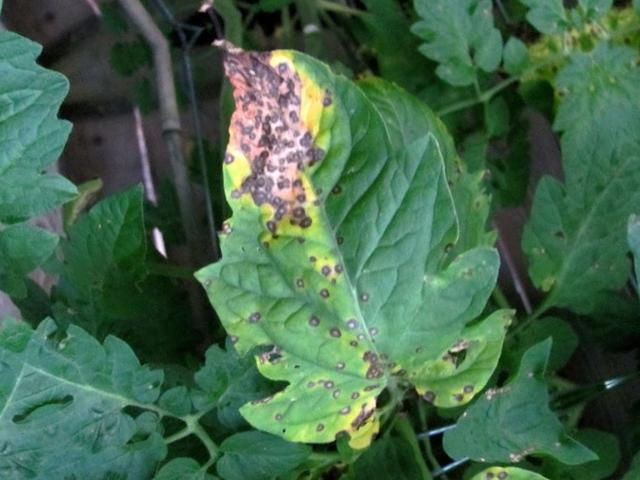Tomato Septoria leaf spot: (102, 0, 537, 480)
